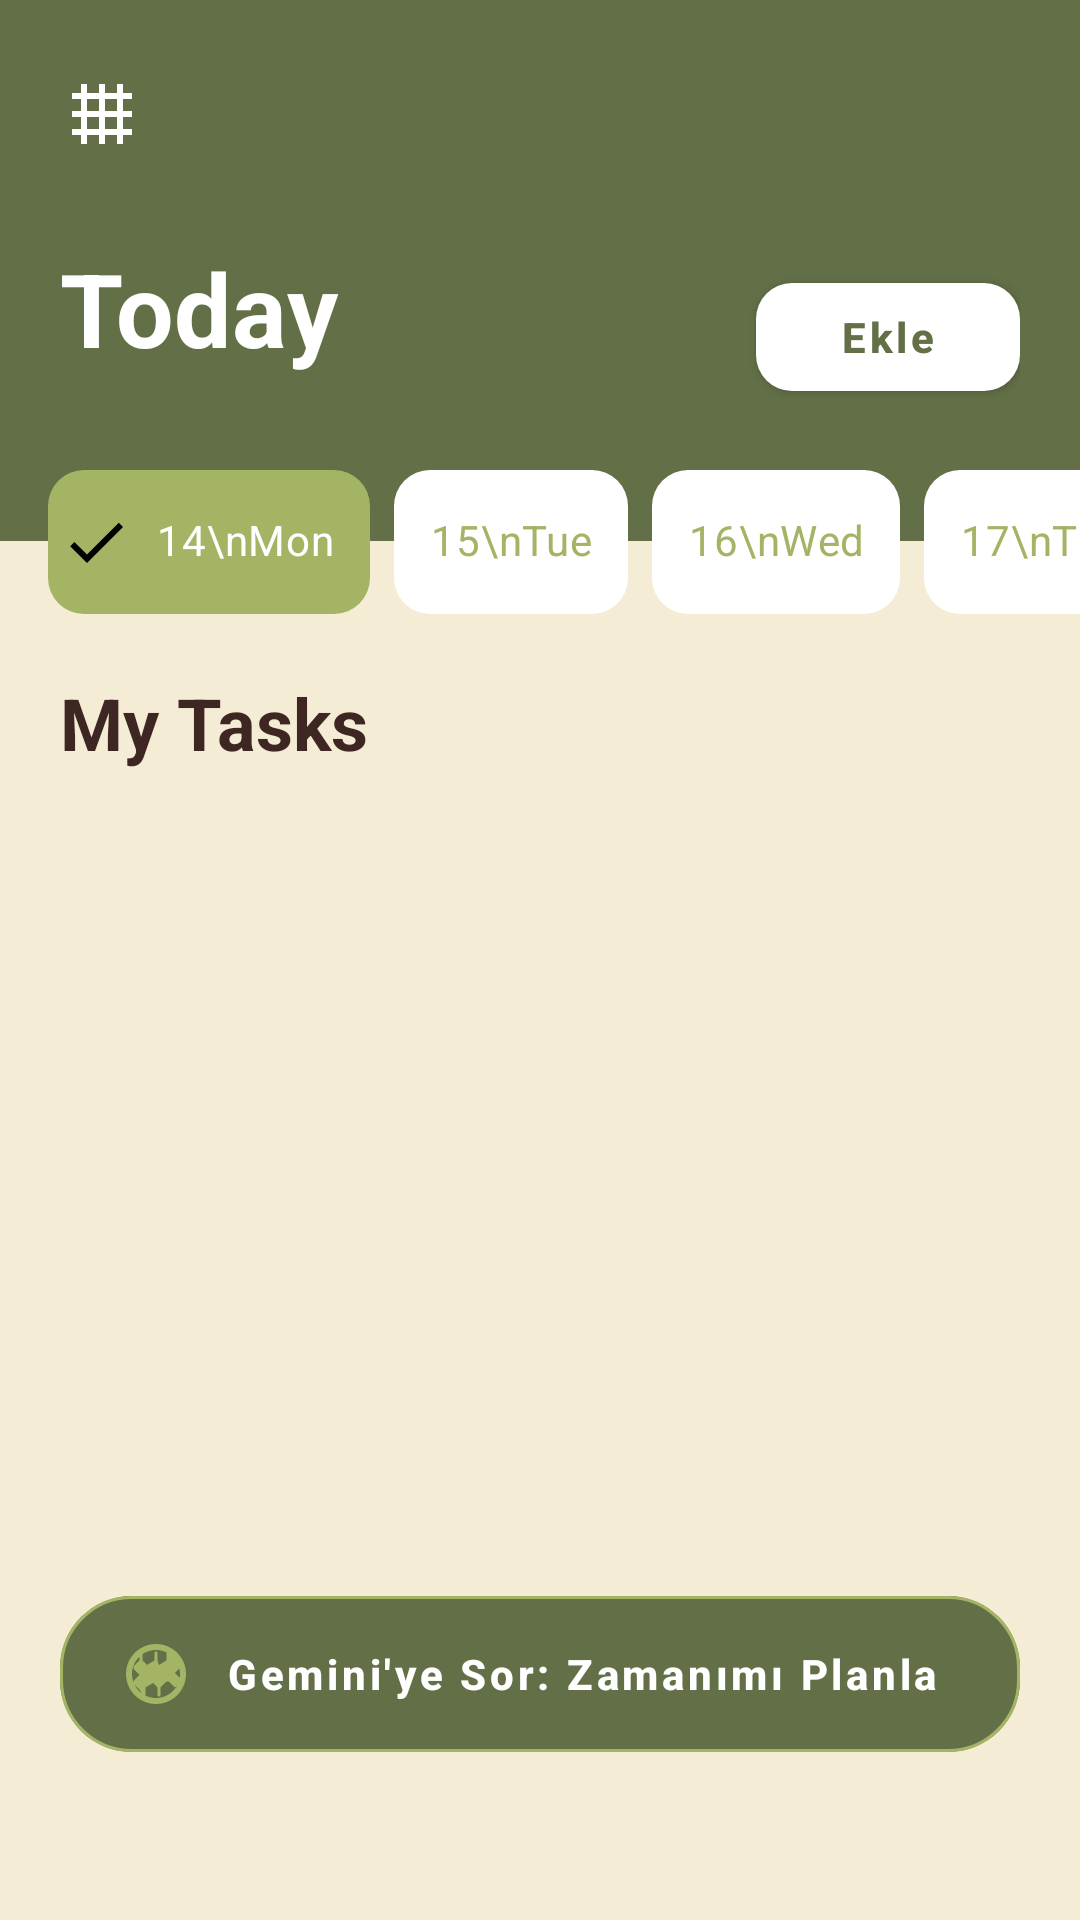

Where icons sit on this 1080x1920 app screen, as (x1, y1, x2, y2):
Menü: (72, 84, 132, 144)
